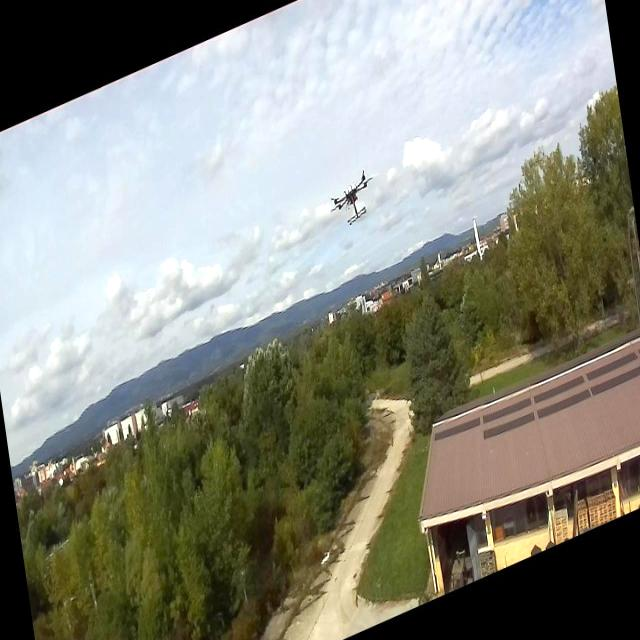drone: (325, 163, 378, 236)
